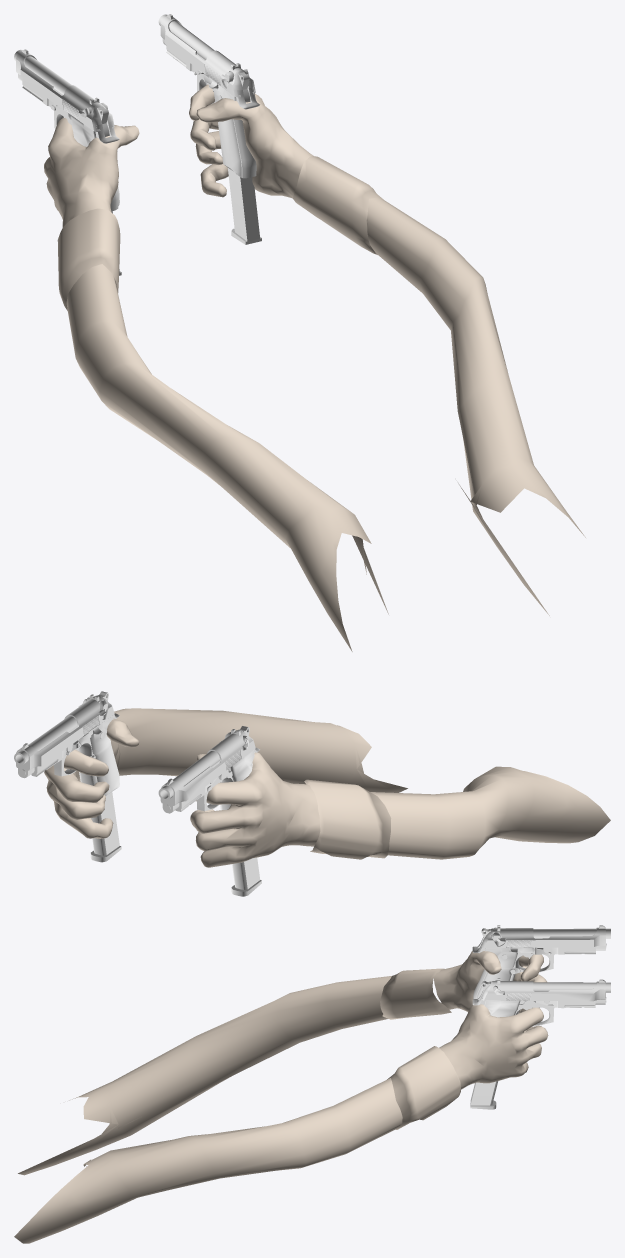
The model's file is berettas_dual.glb.
The picture shows the model from 3 angles, top to bottom: view 1: azimuth 30°, elevation 25°; view 2: azimuth 150°, elevation 25°; view 3: azimuth 270°, elevation 25°; orthographic projection. The views are drawn at different scales.
Parts seen in each view (by area): view 1: char_L, char, body, slide_L, slide, body_L, mag; view 2: char_L, char, body, slide, slide_L, body_L, mag, mag_L; view 3: char, char_L, body_L, body, slide_L, slide, mag.
Part boxes in pixels (<box>): char_L: <box>44,117,388,651</box>; char: <box>189,84,585,615</box>; body: <box>158,14,259,178</box>; slide_L: <box>16,49,114,131</box>; slide: <box>160,14,255,97</box>; body_L: <box>14,49,119,211</box>; mag: <box>228,168,261,244</box>; char_L: <box>190,752,610,867</box>; char: <box>44,708,407,838</box>; body: <box>14,713,119,796</box>; slide: <box>16,694,114,778</box>; slide_L: <box>160,729,255,813</box>; body_L: <box>158,747,259,811</box>; mag: <box>90,792,121,862</box>; mag_L: <box>220,761,261,896</box>; char: <box>14,1004,548,1243</box>; char_L: <box>18,951,546,1175</box>; body_L: <box>472,928,610,998</box>; body: <box>472,982,610,1025</box>; slide_L: <box>481,925,605,950</box>; slide: <box>481,978,605,1004</box>; mag: <box>470,1081,498,1109</box>.
Bounding box in the file's own units: 0.557 × 0.4602 × 0.9766.
